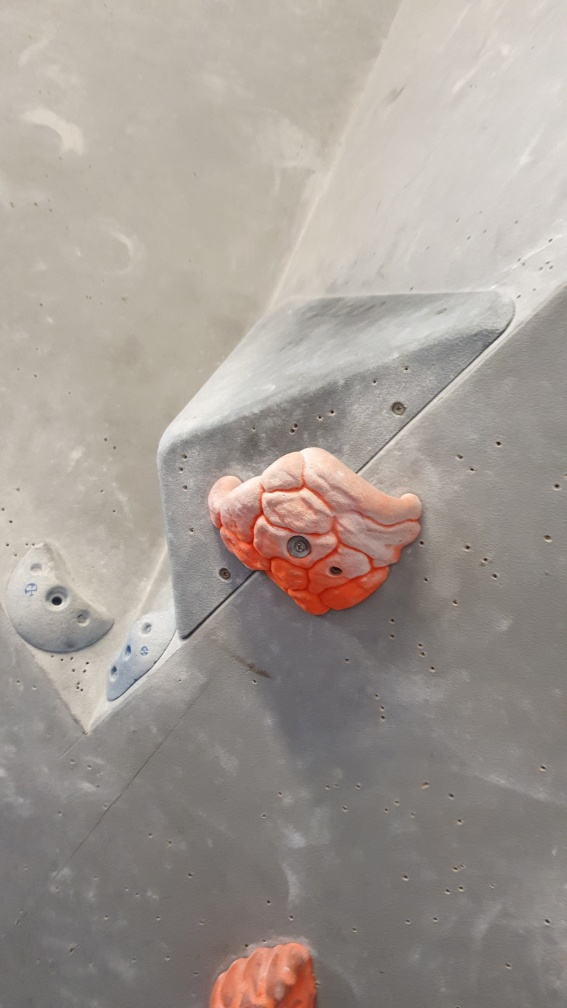Jug: (205, 442, 424, 622)
